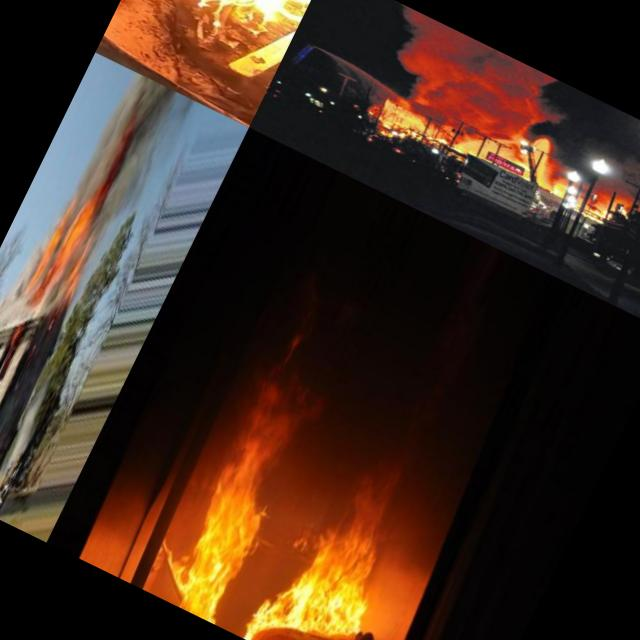fire: (159, 426, 297, 624), (262, 499, 406, 640), (122, 0, 326, 71), (364, 88, 488, 174), (39, 193, 99, 295), (22, 195, 78, 294), (510, 135, 580, 195), (562, 187, 614, 232)
smoke: (349, 0, 552, 152), (1, 70, 127, 225)
